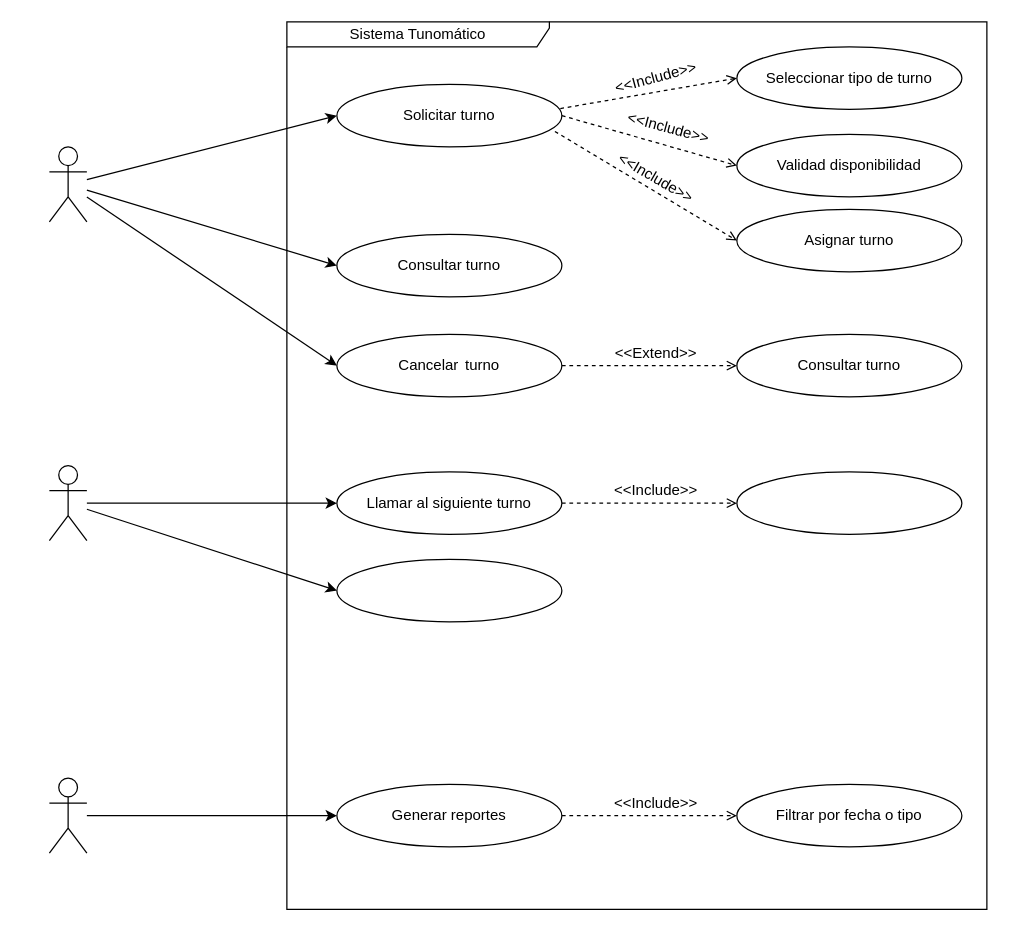
Image size: 1009x931. Some labels were removed from this diagram. Here are the shapes that lost their labels. From the top down, the centre of each, then its label:
At point 67,184: "Cliente".
At point 67,502: "Empleado".
At point 849,502: "Actualizar estado del turno".
At point 449,590: "Ver lista de espera".
At point 67,815: "Administrador".
